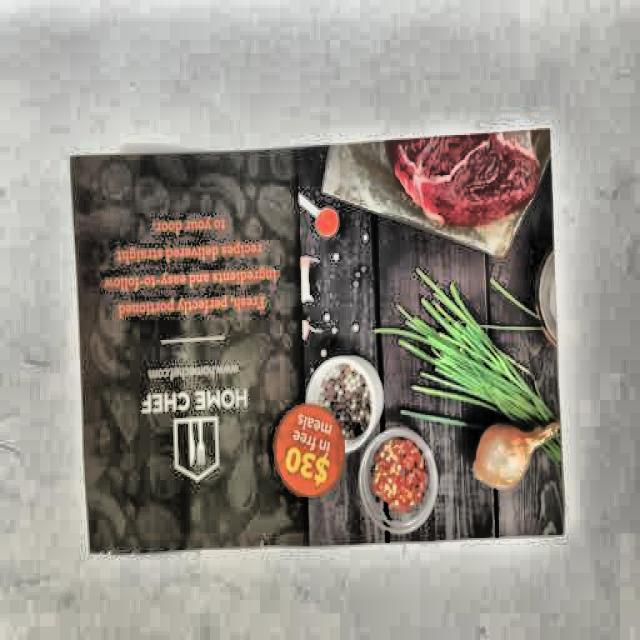paper: (68, 128, 568, 550)
